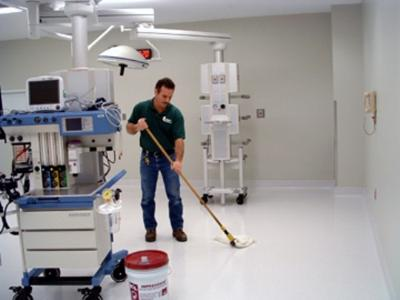person: (126, 78, 190, 243)
